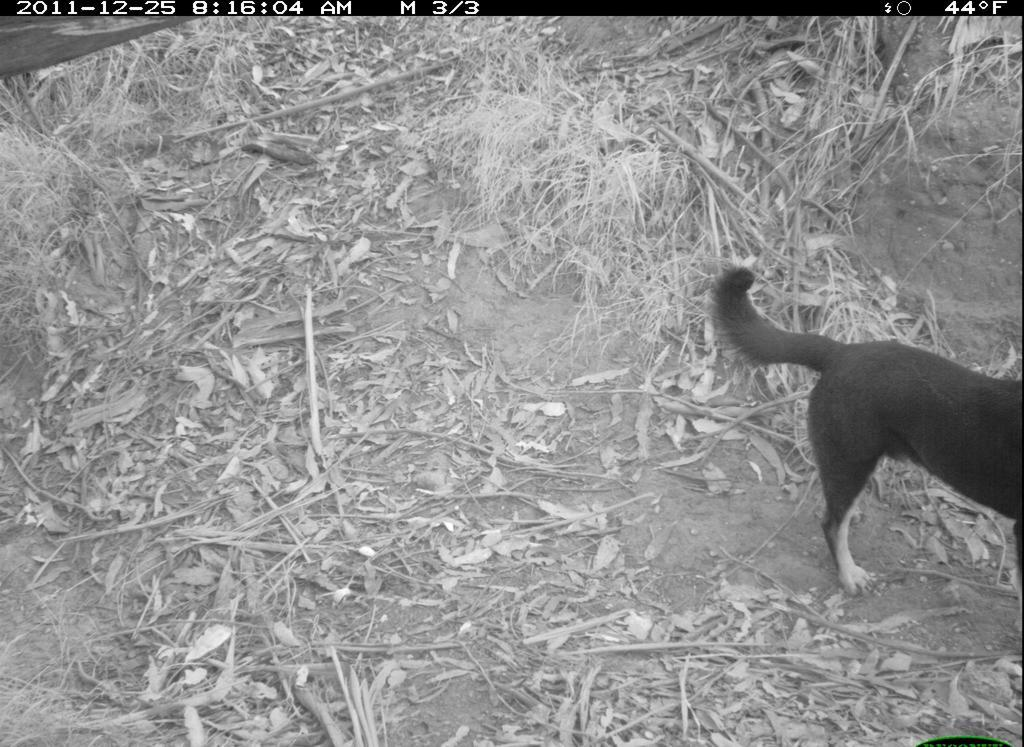dog: (680, 246, 1023, 594)
